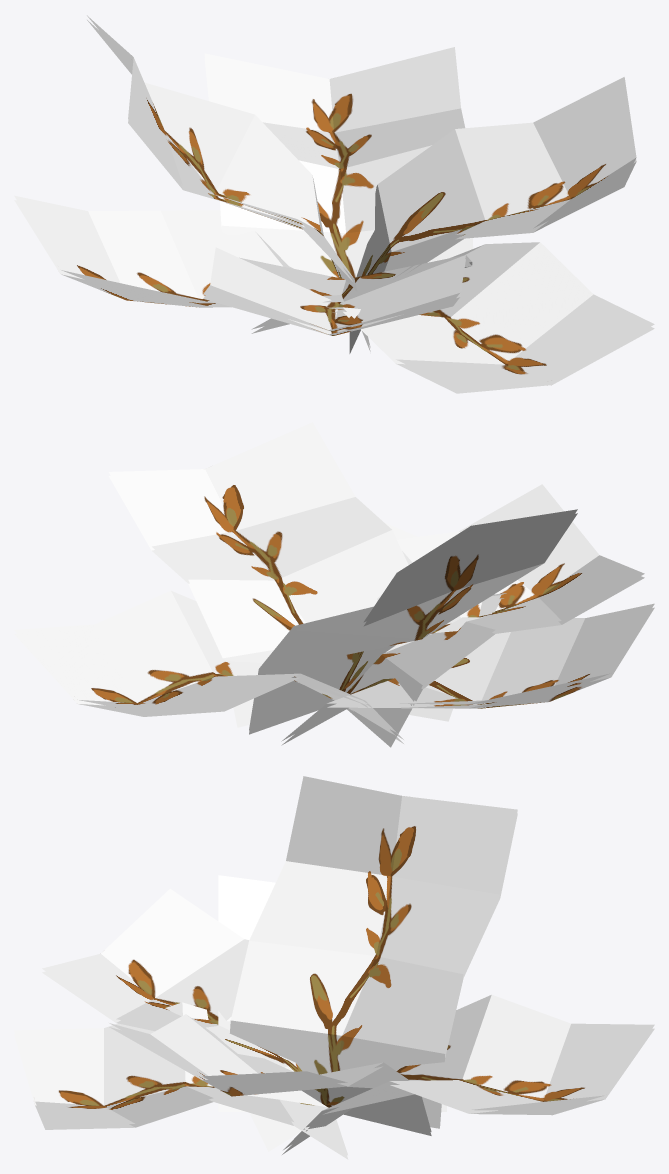
The model's file is Ferns05.fbx.
The picture shows the model from 3 angles, top to bottom: view 1: azimuth 30°, elevation 25°; view 2: azimuth 150°, elevation 25°; view 3: azimuth 270°, elevation 25°; orthographic projection. The views are drawn at different scales.
Visible parts, largest first — view 1: Fern05; view 2: Fern05; view 3: Fern05.
Part boxes in pixels (x1,y1,x2,y2): Fern05: (14,15,654,393); Fern05: (14,422,654,747); Fern05: (14,776,654,1159).
Size of the model in its own units: 2.01 by 0.9069 by 2.22.
Materials: 1 (1 with a texture image).
